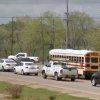Bus: (45, 41, 96, 77)
